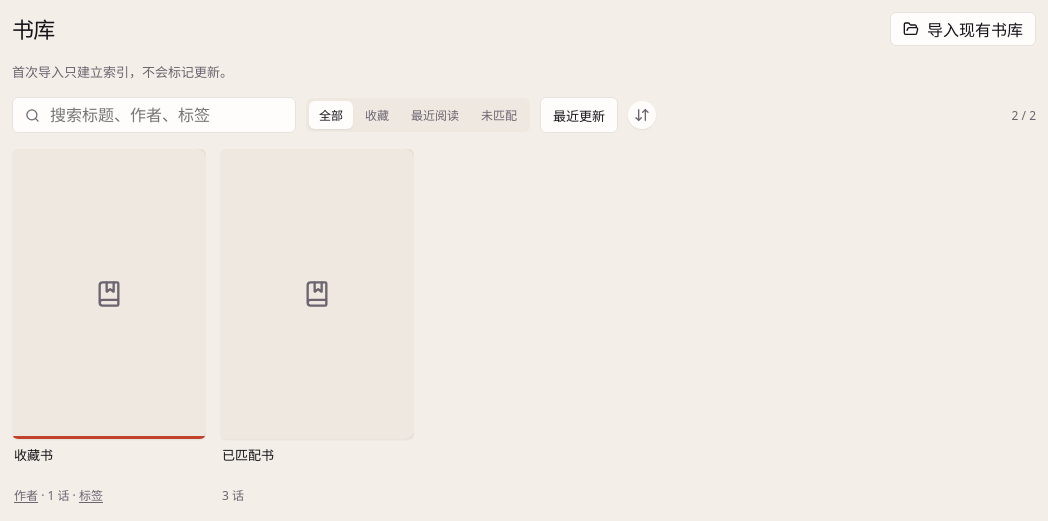
Scenario: LibraryView toolbar › filters by tag when a tag label is clicked
The width and height of the screenshot is (1048, 521).
Click the link "标签": (91, 496) [79, 488, 103, 504]
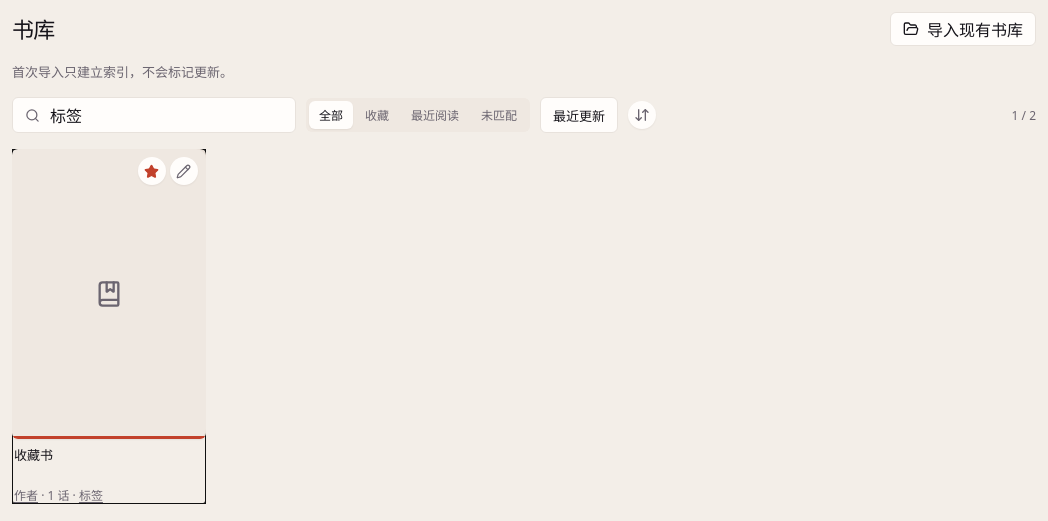
Expected: the heading "收藏书" is shown, [14, 446, 53, 464]
Expected: the button "已匹配书" is gone
